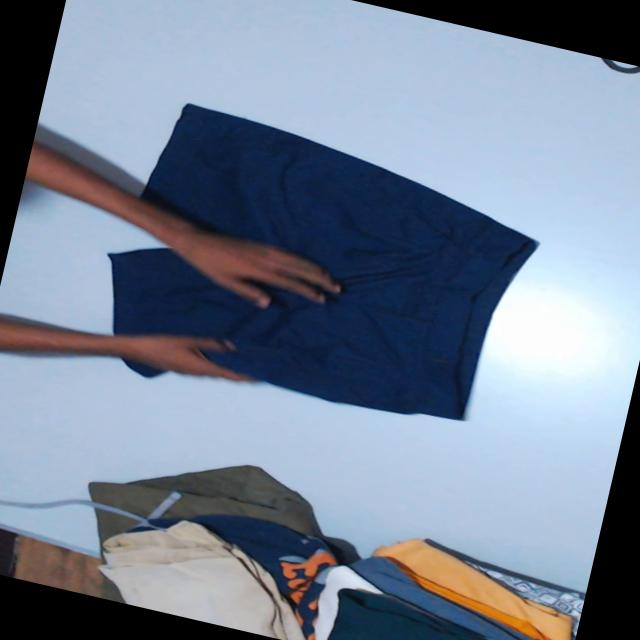new-garment: (109, 103, 535, 419), (124, 358, 164, 376)
